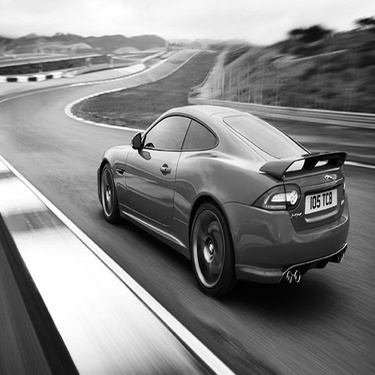car: (74, 89, 367, 296)
